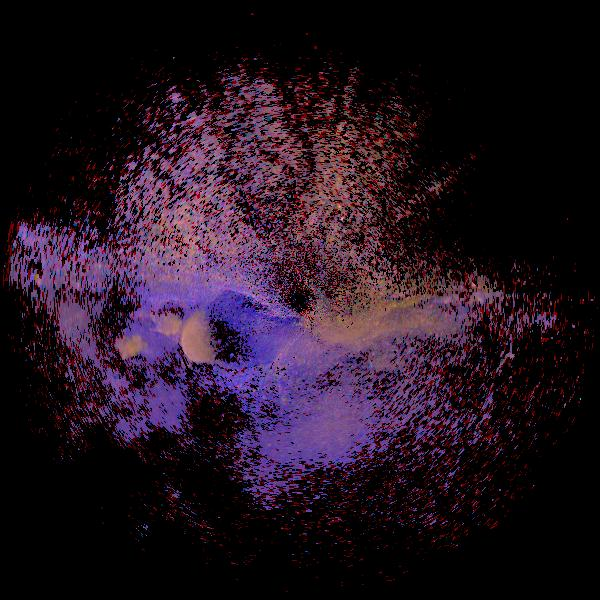roost: (106, 299, 235, 428), (77, 328, 149, 400)
